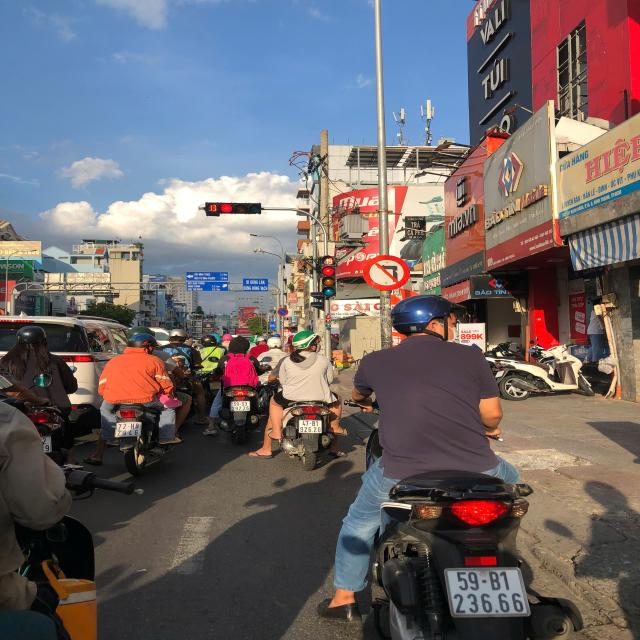Bien bao cam re trai: (362, 252, 416, 292)
